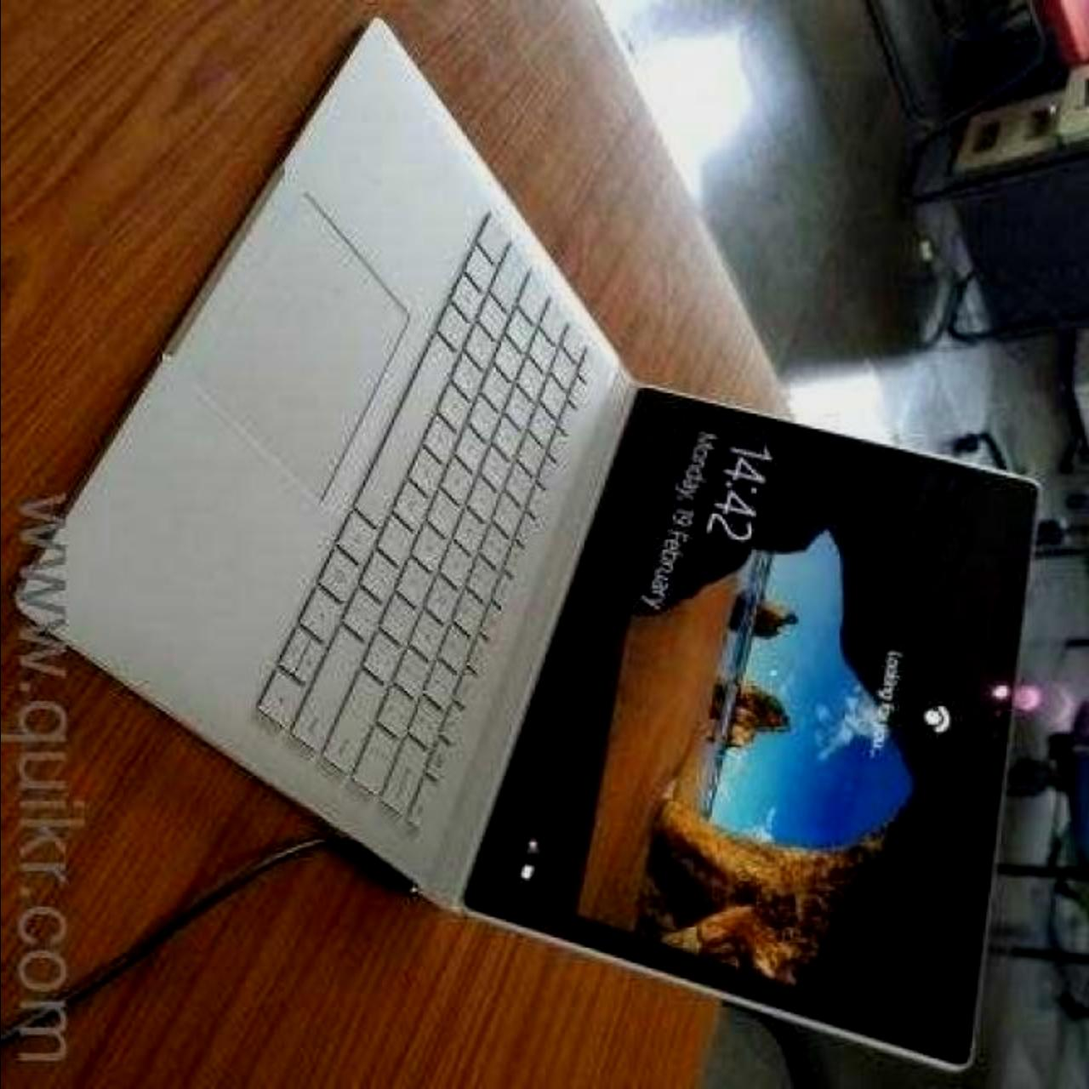laptop: (37, 132, 1086, 1039)
